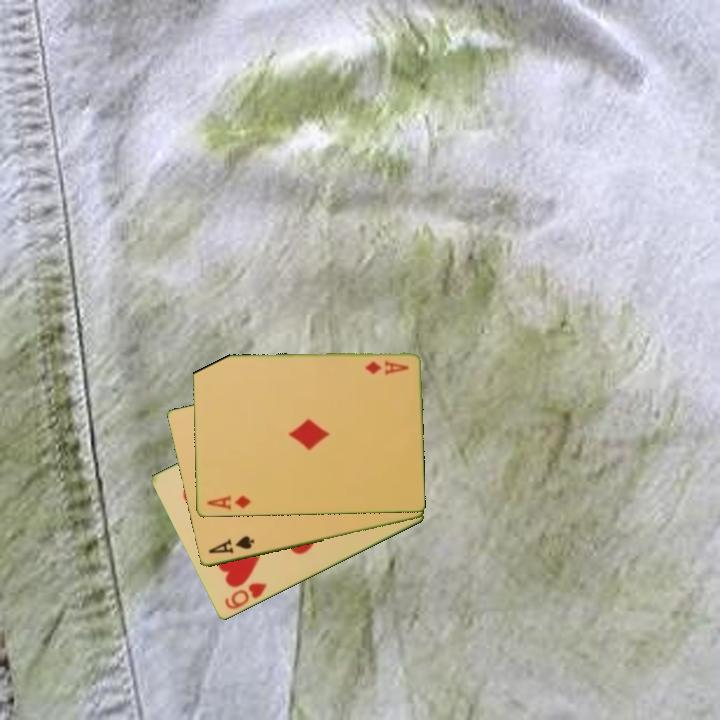6h: (221, 580, 270, 613)
Ad: (203, 492, 253, 513), (362, 358, 411, 377)
As: (204, 532, 257, 557)
